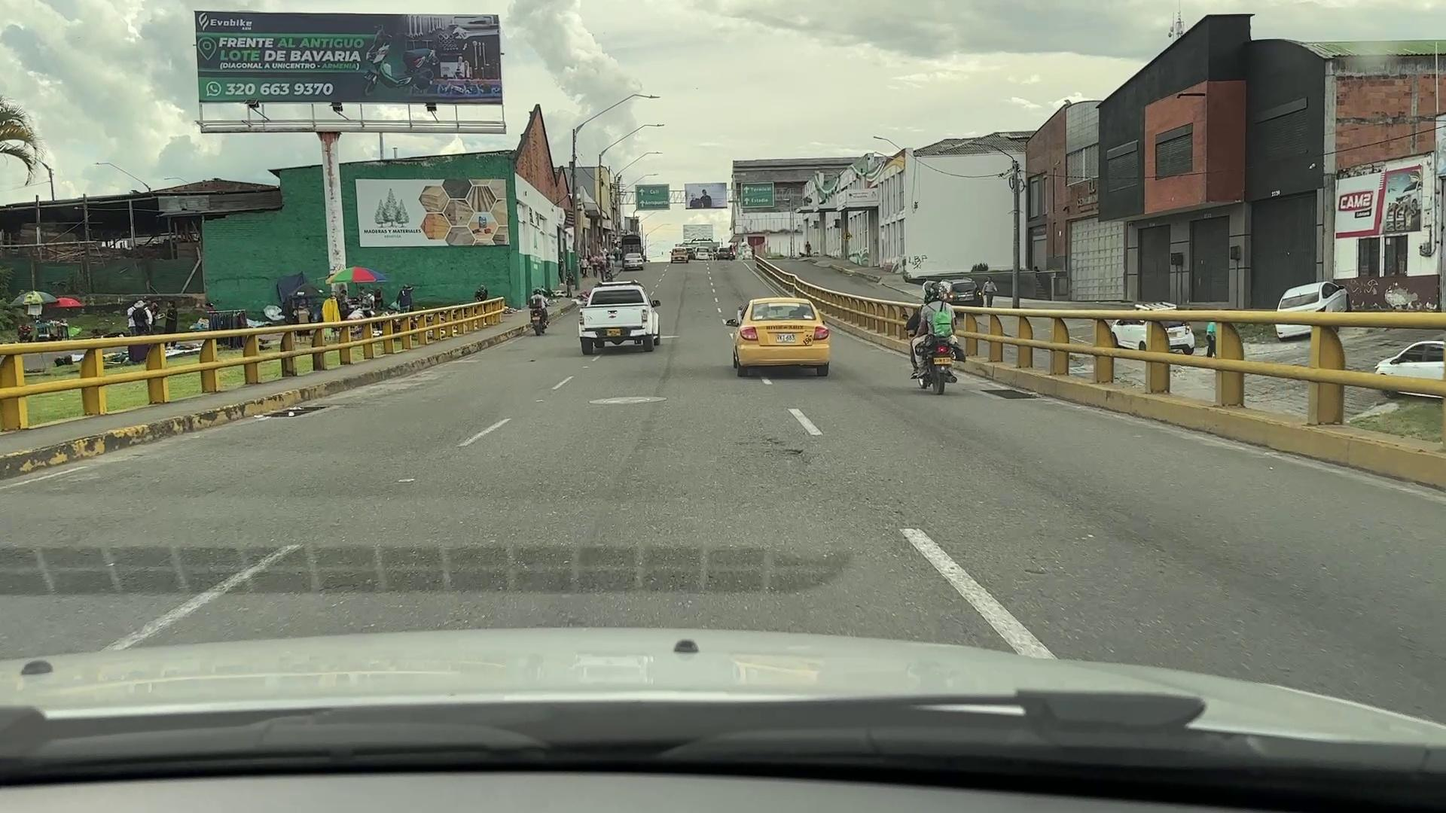bache: (786, 449, 804, 457)
registro: (603, 397, 650, 404)
rejilla: (258, 406, 327, 419), (983, 390, 1040, 399)
